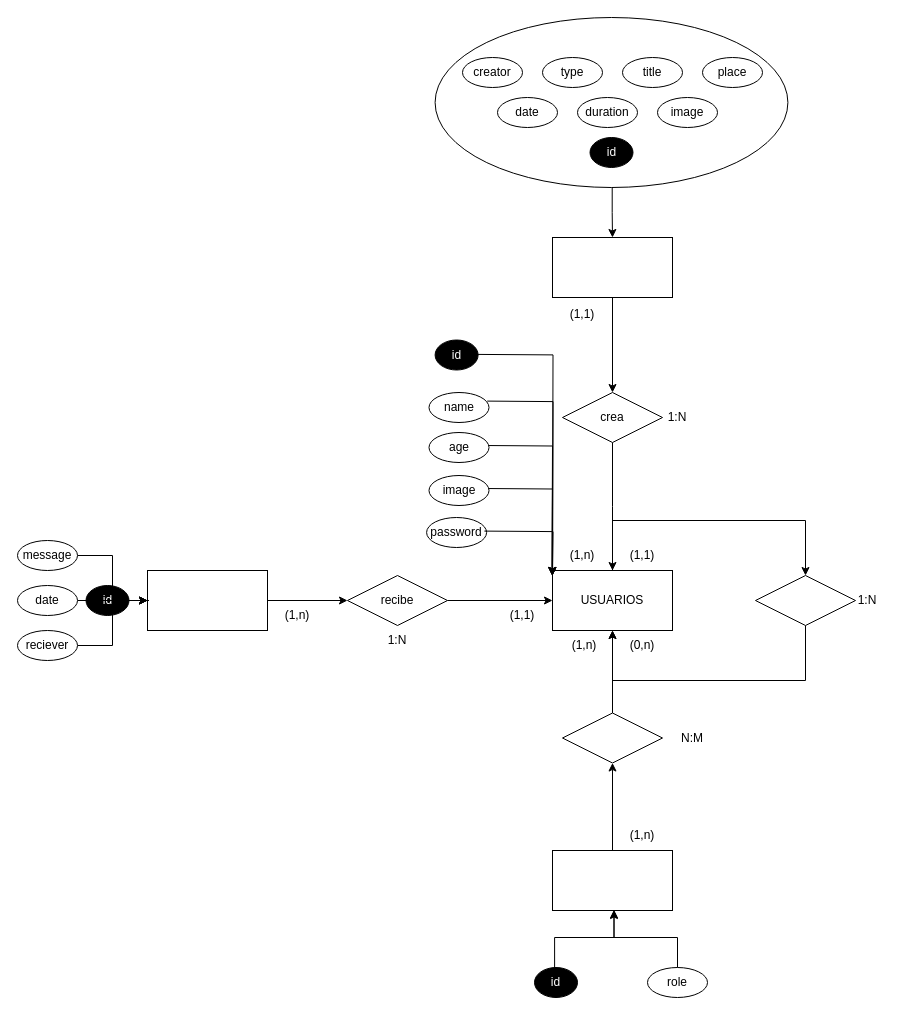
Some shapes in this 915 by 1015 pixel diagram are drawn without their labels. Each missing label, with the centre of its shape:
ACTIVIDADES: (x=612, y=267)
NOTIFICACIONES: (x=207, y=600)
ROLES: (x=612, y=880)
tiene amigos: (x=805, y=600)
tiene roles: (x=612, y=737)
